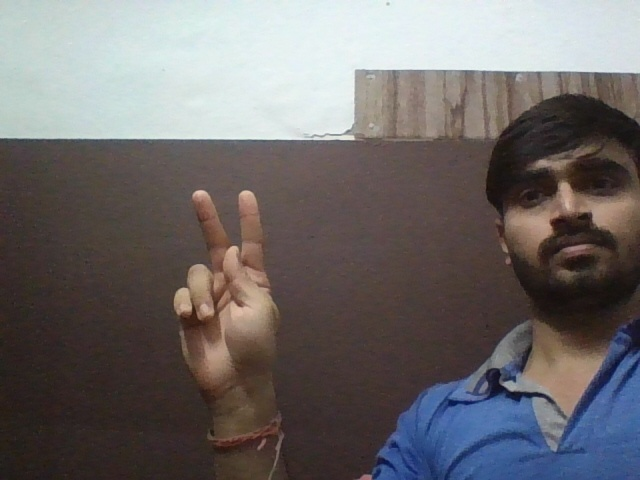K: (155, 177, 304, 400)
